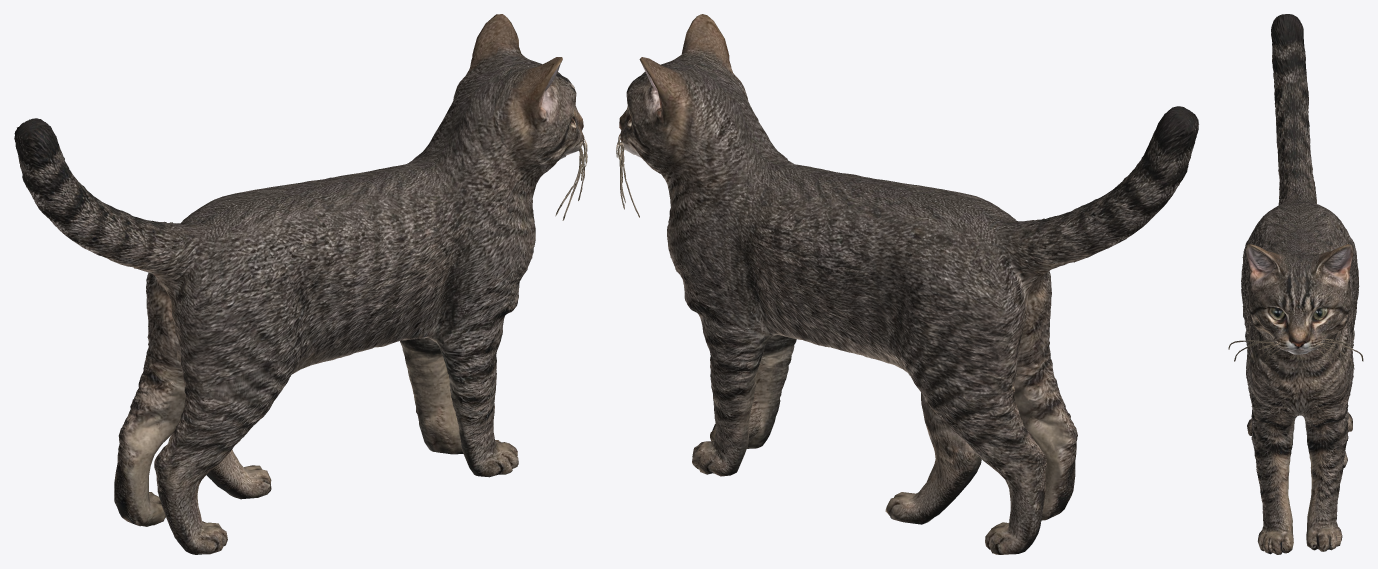
The model's file is NORAKEYS.glb.
The picture shows the model from 3 angles, left to right: view 1: azimuth 30°, elevation 25°; view 2: azimuth 150°, elevation 25°; view 3: azimuth 270°, elevation 25°; orthographic projection. The views are drawn at different scales.
Parts seen in each view (by area): view 1: tripo_node_2c527360-a702-40f9-8c69-9516a7dd532c; view 2: tripo_node_2c527360-a702-40f9-8c69-9516a7dd532c; view 3: tripo_node_2c527360-a702-40f9-8c69-9516a7dd532c.
Part boxes in pixels (<box>): tripo_node_2c527360-a702-40f9-8c69-9516a7dd532c: <box>14,14,587,554</box>; tripo_node_2c527360-a702-40f9-8c69-9516a7dd532c: <box>616,14,1198,554</box>; tripo_node_2c527360-a702-40f9-8c69-9516a7dd532c: <box>1228,14,1363,554</box>.
Size of the model in its own units: 1.31 by 0.9992 by 0.3383.
Materials: 1 (1 with a texture image).
